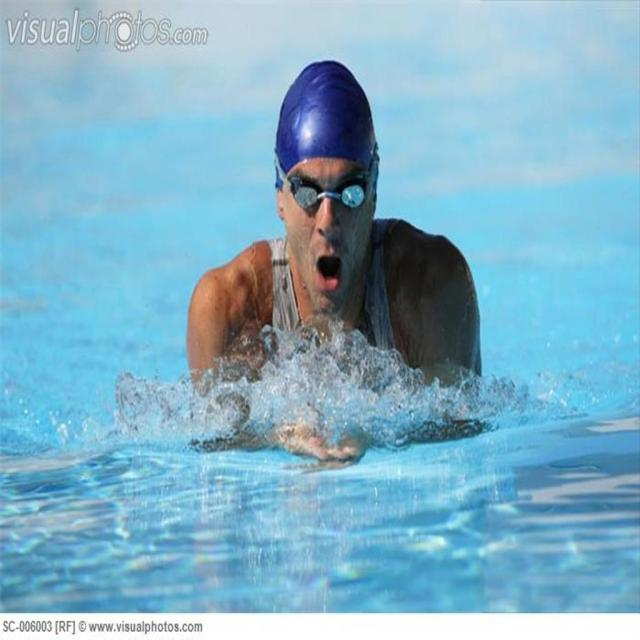Face: (279, 137, 377, 325)
